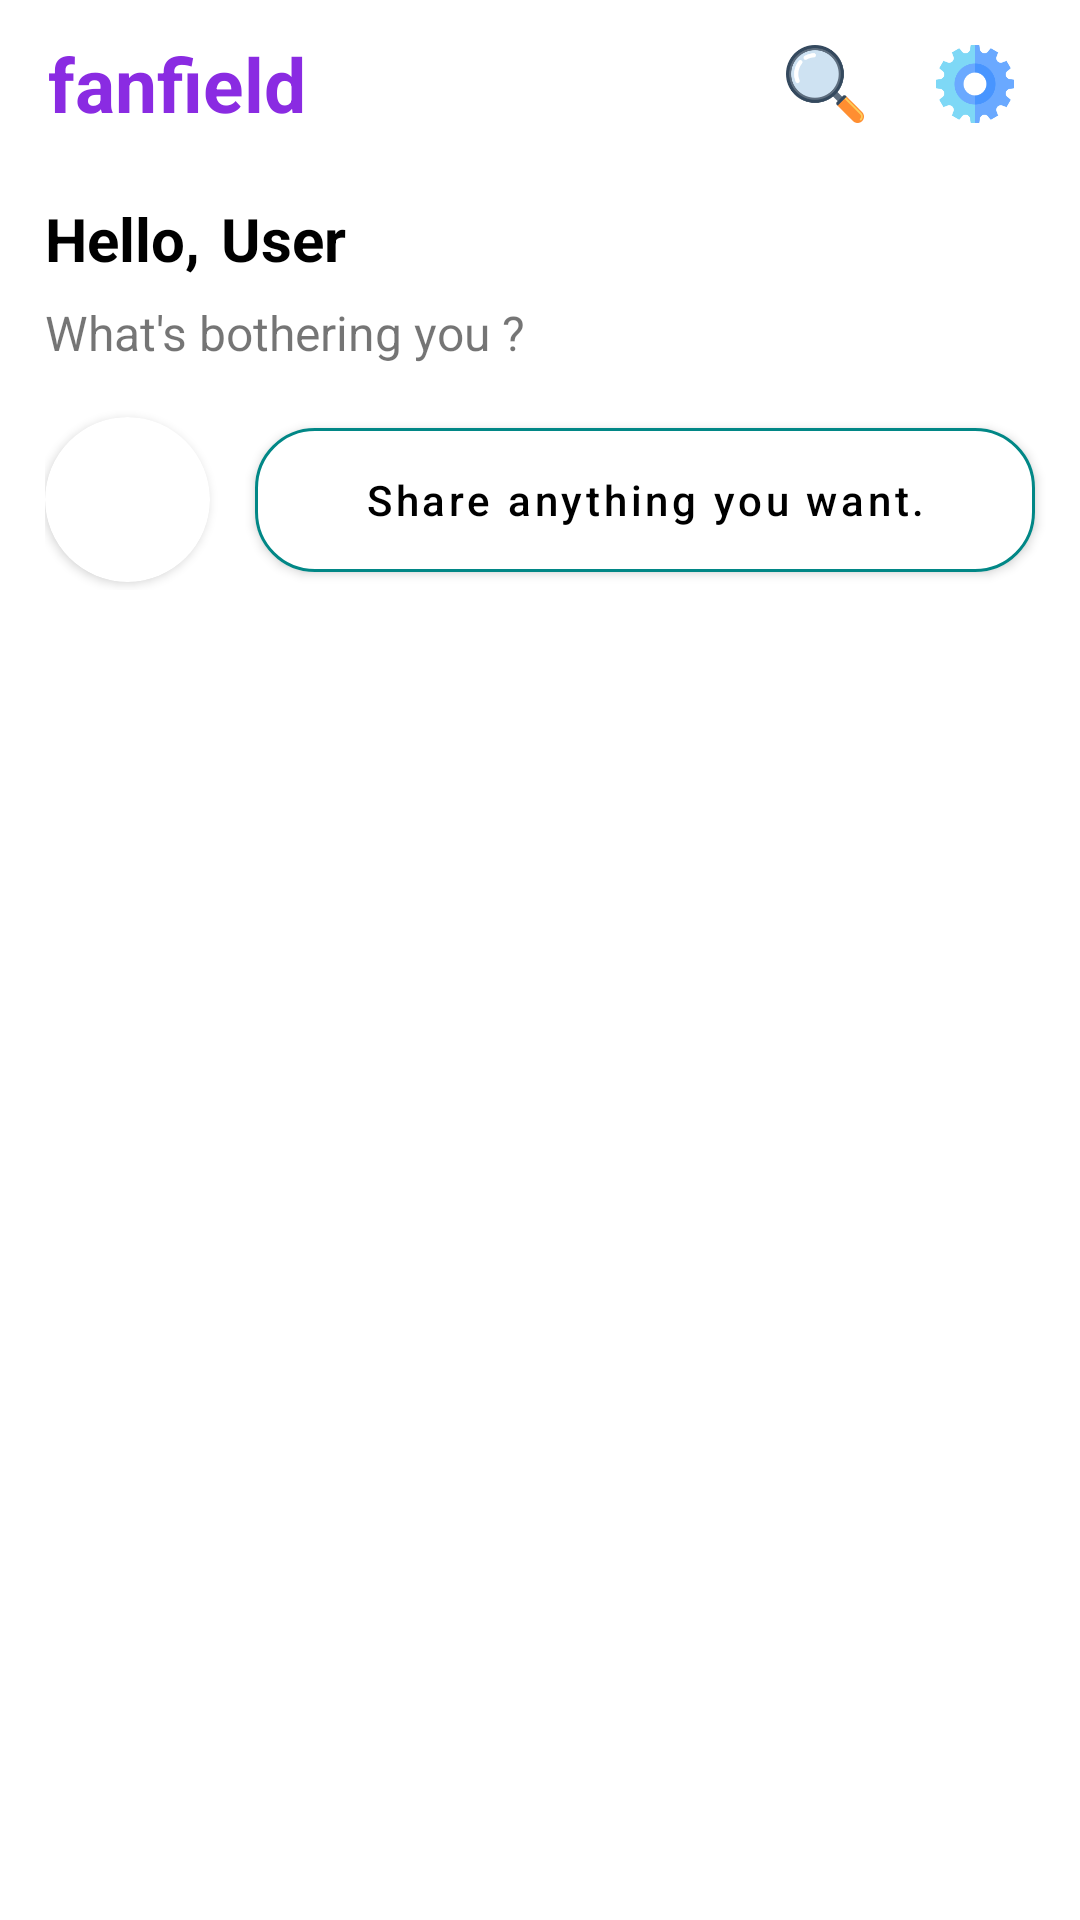

Named icons in this screenshot (1080w x 1920h) and their bounding boxes, rect(x1, y1, x2, y2):
search: rect(786, 45, 864, 123)
settings: rect(936, 45, 1014, 123)
